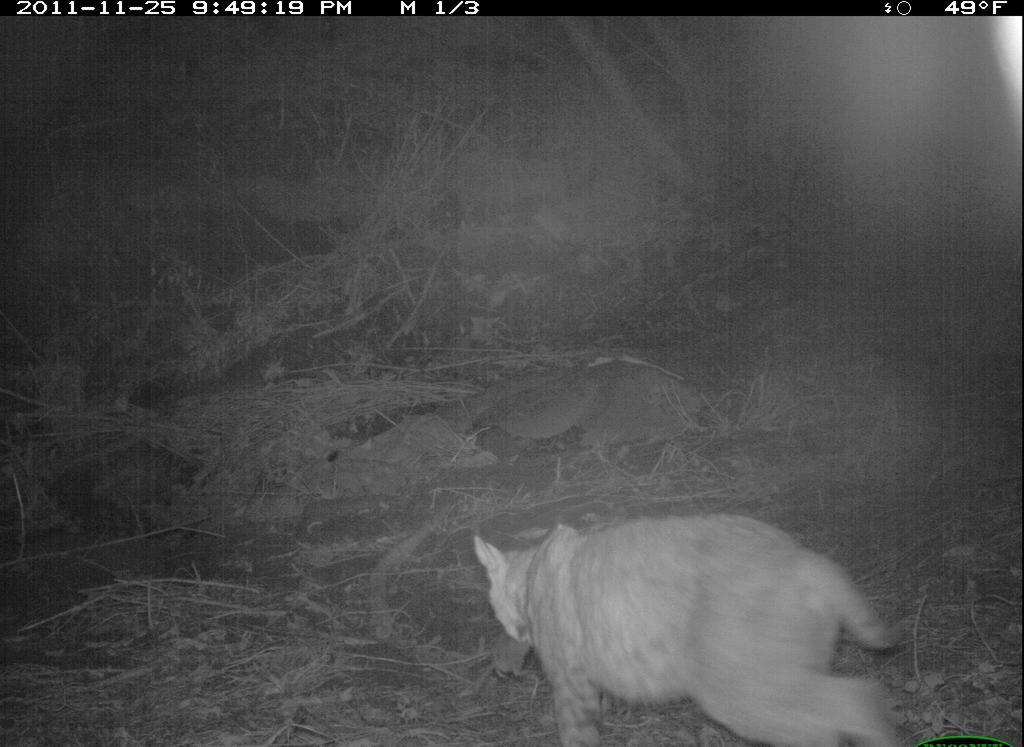bobcat: (457, 505, 909, 738)
